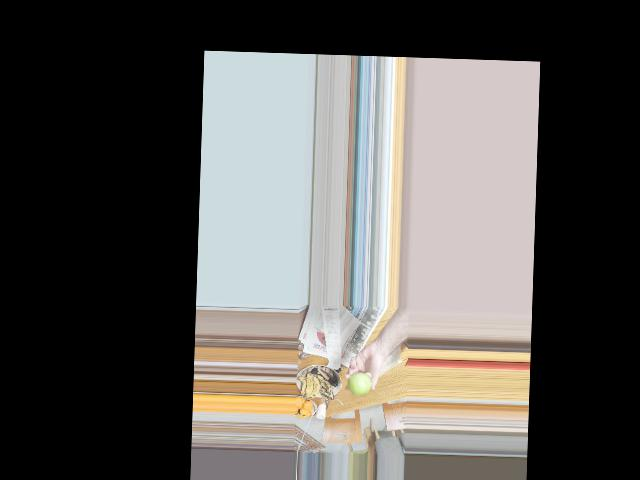apple: (347, 371, 370, 396)
